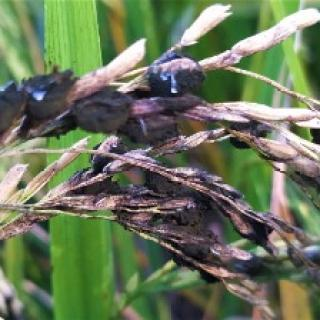Gosong-Palsu: (70, 87, 133, 131), (147, 51, 204, 94), (120, 114, 179, 143)
